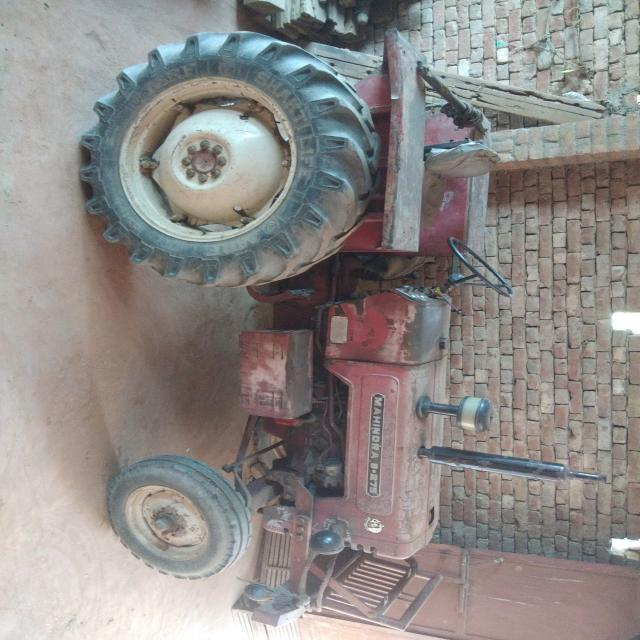tractor: (48, 20, 613, 640)
